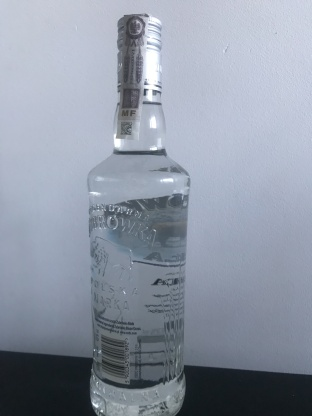nakretka: (114, 10, 164, 97)
